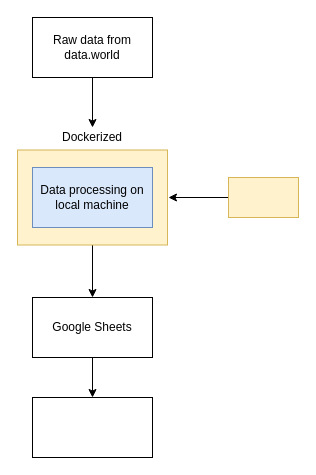
The diagram is 316 pixels wide and 475 high, and some of its shapes have lost their labels. Each missing label, with the centre of its shape:
"Schedule a cron job" goes at (263,197).
"Tableau visualisation" goes at (92,427).
